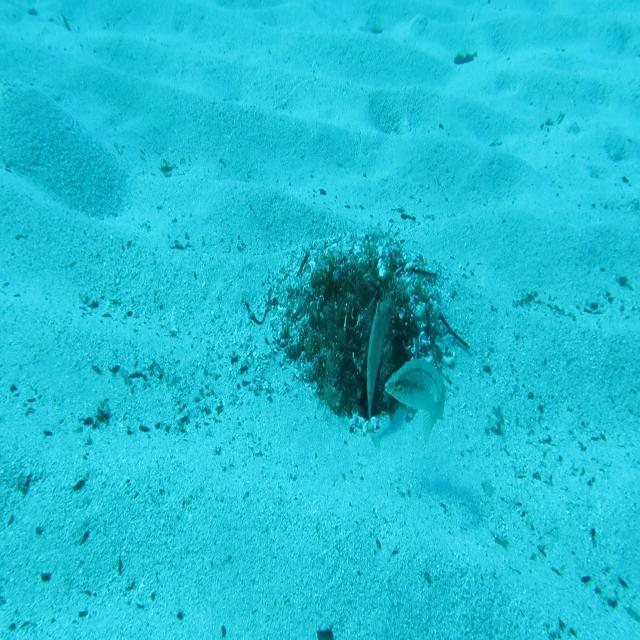FAN: (365, 293, 395, 452)
core_nest: (330, 274, 376, 308)
female: (384, 354, 446, 447)
nest: (264, 218, 462, 449)
vegetation: (452, 50, 480, 68)
